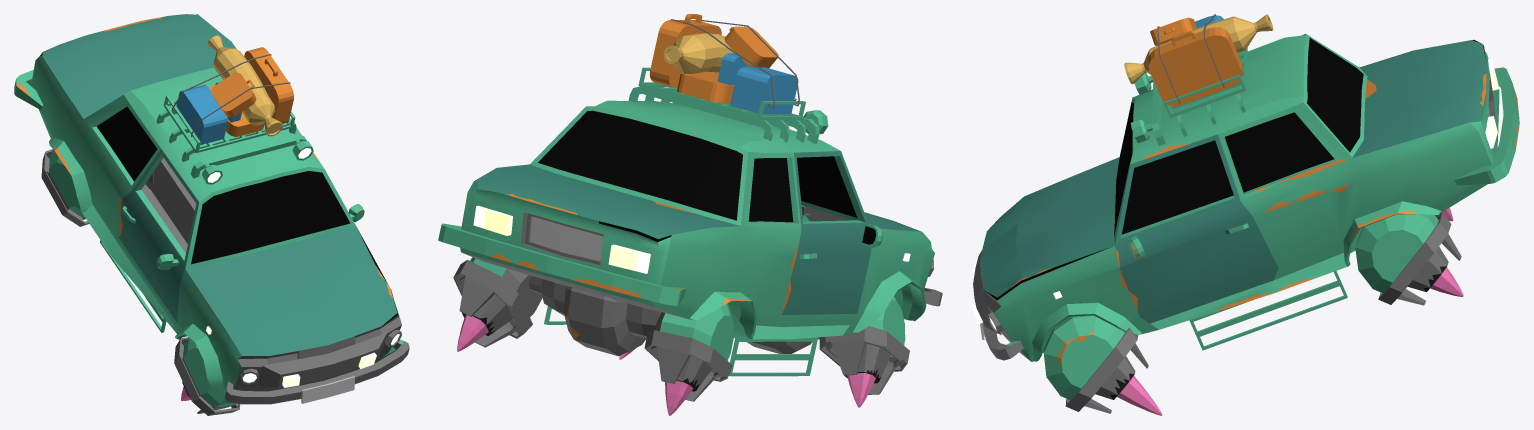
File: car.gltf
3 views of the same model, side by side, from view 1: azimuth 30°, elevation 25°; view 2: azimuth 150°, elevation 25°; view 3: azimuth 270°, elevation 25° (orthographic). The views are drawn at different scales.
Parts seen in each view (by area): view 1: car, nozzle_front_right, nozzle_back_right; view 2: car, nozzle_back_right, nozzle_back_left, nozzle_front_right, fire_back_left, fire_back_right, fire_front_right; view 3: car, nozzle_front_left, nozzle_back_left, fire_front_left, fire_back_left.
Part boxes in pixels (x1,y1,x2,y2): car: (14,14,409,404); nozzle_front_right: (174,337,240,415); nozzle_back_right: (41,149,89,226); car: (438,14,942,376); nozzle_back_right: (644,303,733,401); nozzle_back_left: (453,257,542,347); nozzle_front_right: (819,296,909,394); fire_back_left: (457,314,488,351); fire_back_right: (665,380,693,415); fire_front_right: (847,373,875,407); car: (971,14,1519,361); nozzle_front_left: (1043,315,1148,413); nozzle_back_left: (1355,213,1461,305); fire_front_left: (1117,376,1162,415); fire_back_left: (1430,267,1463,296).
Bounding box in the file's own units: 1.87 × 2.53 × 3.51.
